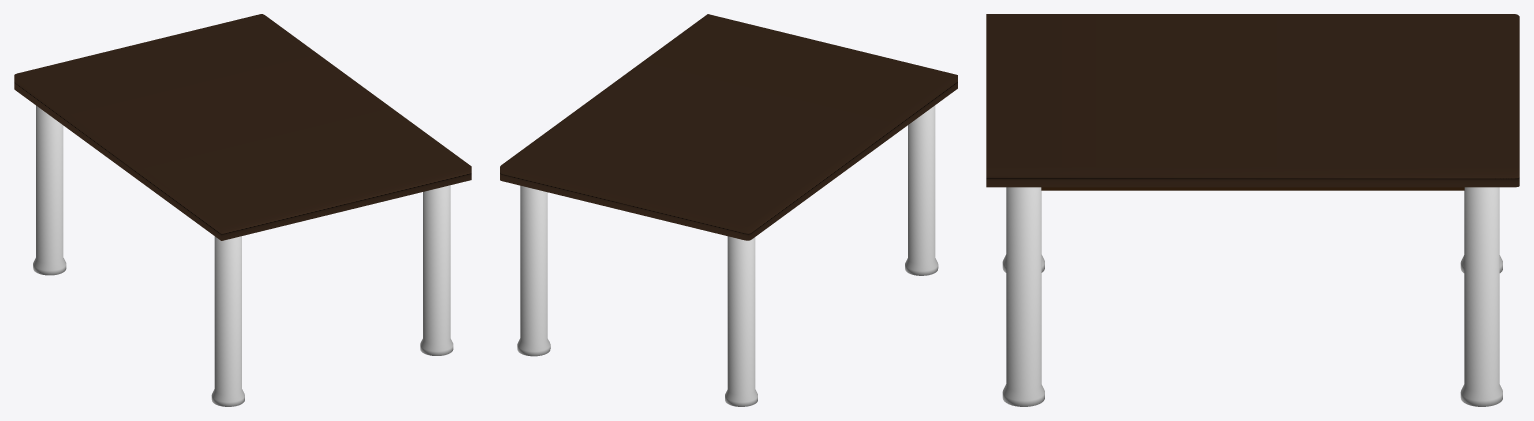
File: table 2.0.fbx
The picture shows the model from 3 angles, left to right: view 1: azimuth 30°, elevation 25°; view 2: azimuth 150°, elevation 25°; view 3: azimuth 270°, elevation 25°; orthographic projection. The views are drawn at different scales.
Visible parts, largest first — view 1: Cube.004, Cylinder.004, Cylinder.001, Cylinder.003; view 2: Cube.004, Cylinder.003, Cylinder.002, Cylinder.004; view 3: Cube.004, Cylinder.001, Cylinder.002, Cube.
Boxes of the visible parts, x1=… form: Cube.004: x1=14, y1=14, x2=471, y2=240; Cylinder.004: x1=211, y1=236, x2=244, y2=406; Cylinder.001: x1=420, y1=185, x2=453, y2=355; Cylinder.003: x1=33, y1=105, x2=66, y2=275; Cube.004: x1=500, y1=14, x2=957, y2=240; Cylinder.003: x1=725, y1=236, x2=757, y2=406; Cylinder.002: x1=517, y1=185, x2=550, y2=356; Cylinder.004: x1=905, y1=105, x2=938, y2=275; Cube.004: x1=986, y1=14, x2=1519, y2=187; Cylinder.001: x1=1002, y1=187, x2=1044, y2=406; Cylinder.002: x1=1460, y1=187, x2=1502, y2=406; Cube: x1=1041, y1=187, x2=1464, y2=190.
Bounding box in the file's own units: 240 × 173 × 348.
